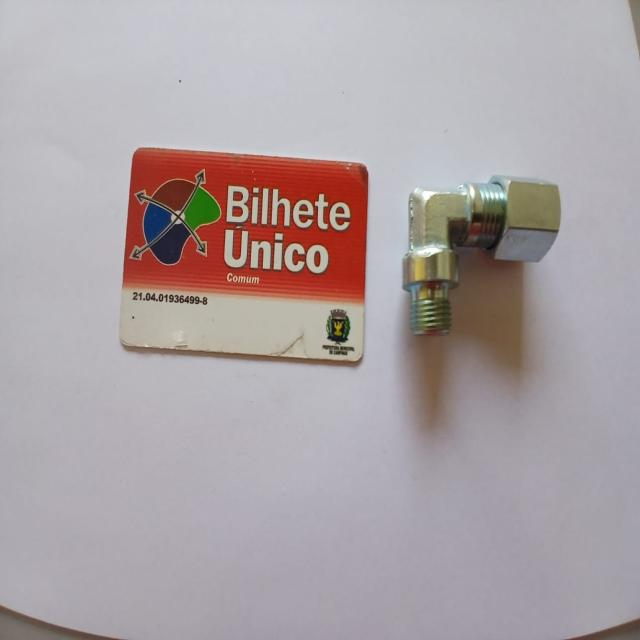cartao: (120, 148, 368, 364)
rosca_externa: (403, 174, 562, 335)
